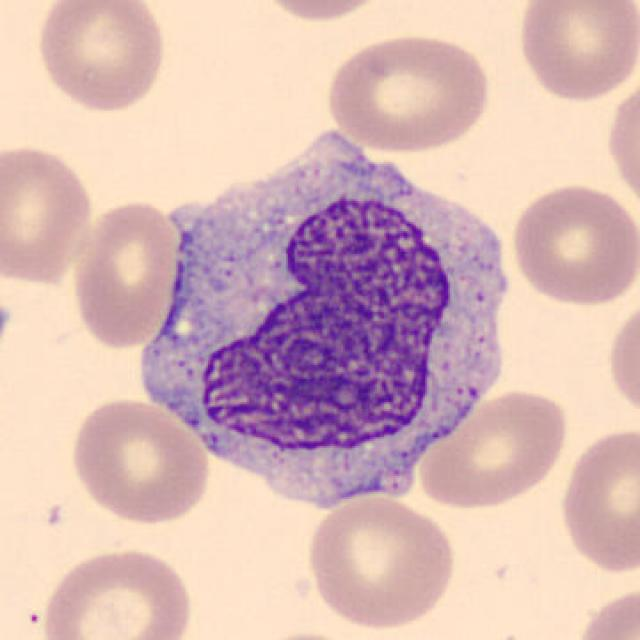Monocyte: (129, 120, 532, 513)
RBC: (320, 28, 494, 155), (302, 492, 459, 631), (414, 386, 571, 511), (66, 395, 213, 527), (68, 198, 183, 349), (507, 180, 638, 308), (30, 0, 171, 115), (38, 543, 196, 640), (0, 140, 96, 288), (512, 0, 638, 104), (555, 423, 638, 577), (602, 70, 640, 215), (602, 292, 640, 426), (569, 582, 640, 640), (249, 0, 396, 25), (241, 627, 371, 640)
